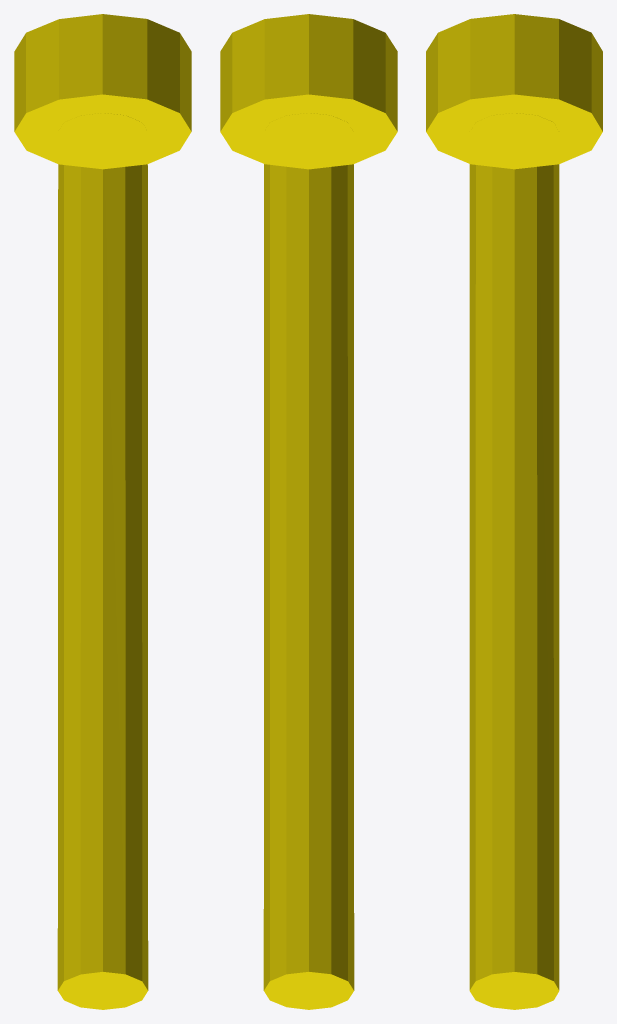
The picture shows the model from 3 angles, left to right: view 1: azimuth 30°, elevation 25°; view 2: azimuth 150°, elevation 25°; view 3: azimuth 270°, elevation 25°; orthographic projection.
Parts seen in each view (by area): view 1: 004_L_395700_PART_1; view 2: 004_L_395700_PART_1; view 3: 004_L_395700_PART_1.
Boxes of the visible parts, x1,y1,x2,y2 form: 004_L_395700_PART_1: (14, 14, 191, 1009); 004_L_395700_PART_1: (220, 14, 397, 1009); 004_L_395700_PART_1: (426, 14, 602, 1009).
Size of the model in its own units: 0.64 by 3.75 by 0.639.
